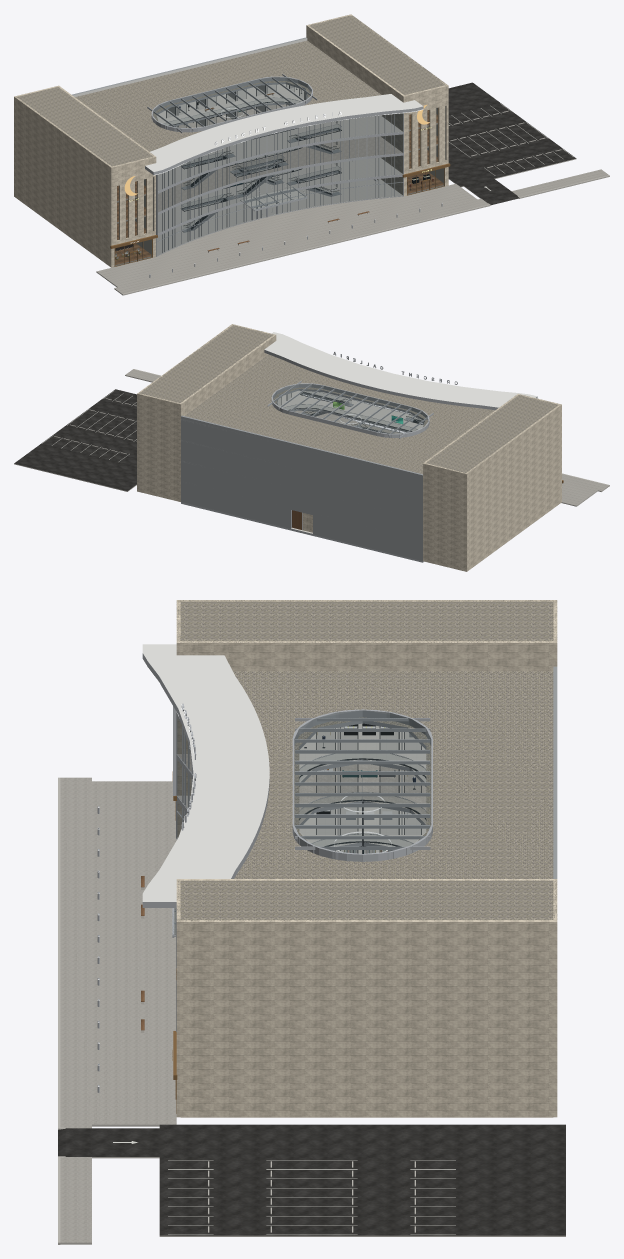
Rendered from crescent_galleria.glb.
3 views of the same model, one above another, from view 1: azimuth 30°, elevation 25°; view 2: azimuth 150°, elevation 25°; view 3: azimuth 270°, elevation 25° (orthographic). The views are drawn at different scales.
Visible parts, largest first — view 1: P15_LOD0_BUILDING_EXTERIOR_Bookends, P15_LOD2_GLASS_SYSTEM_CrescentGlass, P15_LOD0_BUILDING_INTERIOR_Slabs, P15_OPTIONAL_FORECOURT_EntrancePlaza, P15_LOD0_BUILDING_EXTERIOR_Roof, P15_OPTIONAL_PARKING_Asphalt, P15_LOD0_FACADE_DETAILS_Crescent, P15_LOD2_BUILDING_INTERIOR_Slabs, P15_SIDEWALK_FRONTAGE_Main, P15_LOD1_BUILDING_EXTERIOR_Roof, P15_LOD1_FACADE_DETAILS_Crescent, P15_LOD2_GLASS_SYSTEM_CrescentFrame (+14 smaller); view 2: P15_LOD0_BUILDING_EXTERIOR_Bookends, P15_LOD0_BUILDING_EXTERIOR_Roof, P15_OPTIONAL_PARKING_Asphalt, P15_LOD1_BUILDING_EXTERIOR_Roof, P15_LOD2_FACADE_DETAILS_Crescent, P15_LOD2_BUILDING_EXTERIOR_Roof, P15_LOD0_BUILDING_INTERIOR_Slabs, P15_LOD0_FACADE_DETAILS_Crescent, P15_LOD0_GLASS_SYSTEM_SkylightFrame, P15_LOD1_FACADE_DETAILS_Crescent, P15_SIDEWALK_FRONTAGE_Main, P15_LOD1_BUILDING_INTERIOR_Slabs (+5 smaller); view 3: P15_LOD0_BUILDING_EXTERIOR_Bookends, P15_OPTIONAL_PARKING_Asphalt, P15_LOD0_BUILDING_EXTERIOR_Roof, P15_OPTIONAL_FORECOURT_EntrancePlaza, P15_LOD0_FACADE_DETAILS_Crescent, P15_SIDEWALK_FRONTAGE_Main, P15_LOD1_FACADE_DETAILS_Crescent, P15_LOD0_GLASS_SYSTEM_SkylightFrame, P15_LOD0_BUILDING_INTERIOR_Slabs, P15_LOD1_BUILDING_EXTERIOR_Roof, P15_LOD2_BUILDING_EXTERIOR_Roof, P15_LOD2_FACADE_DETAILS_Crescent (+8 smaller).
Part boxes in pixels (x1,y1,x2,y2): P15_LOD0_BUILDING_EXTERIOR_Bookends: (14, 14, 450, 267); P15_LOD2_GLASS_SYSTEM_CrescentGlass: (157, 114, 402, 254); P15_LOD0_BUILDING_INTERIOR_Slabs: (156, 84, 402, 254); P15_OPTIONAL_FORECOURT_EntrancePlaza: (96, 184, 477, 287); P15_LOD0_BUILDING_EXTERIOR_Roof: (75, 40, 381, 151); P15_OPTIONAL_PARKING_Asphalt: (448, 82, 576, 187); P15_LOD0_FACADE_DETAILS_Crescent: (145, 94, 423, 211); P15_LOD2_BUILDING_INTERIOR_Slabs: (156, 90, 402, 255); P15_SIDEWALK_FRONTAGE_Main: (114, 169, 609, 295); P15_LOD1_BUILDING_EXTERIOR_Roof: (82, 42, 380, 151); P15_LOD1_FACADE_DETAILS_Crescent: (146, 94, 422, 171); P15_LOD2_GLASS_SYSTEM_CrescentFrame: (156, 113, 403, 256); P15_LOD0_BUILDING_EXTERIOR_Bookends: (137, 324, 563, 571); P15_LOD0_BUILDING_EXTERIOR_Roof: (181, 354, 494, 473); P15_OPTIONAL_PARKING_Asphalt: (14, 389, 136, 491); P15_LOD1_BUILDING_EXTERIOR_Roof: (190, 355, 493, 473); P15_LOD2_FACADE_DETAILS_Crescent: (264, 333, 535, 410); P15_LOD2_BUILDING_EXTERIOR_Roof: (195, 358, 494, 472); P15_LOD0_BUILDING_INTERIOR_Slabs: (181, 390, 424, 562); P15_LOD0_FACADE_DETAILS_Crescent: (265, 332, 537, 408); P15_LOD0_GLASS_SYSTEM_SkylightFrame: (267, 380, 433, 438); P15_LOD1_FACADE_DETAILS_Crescent: (272, 332, 535, 407); P15_SIDEWALK_FRONTAGE_Main: (125, 369, 609, 491); P15_LOD1_BUILDING_INTERIOR_Slabs: (297, 391, 423, 433); P15_LOD0_BUILDING_EXTERIOR_Bookends: (173, 600, 557, 1117); P15_OPTIONAL_PARKING_Asphalt: (159, 1124, 565, 1236); P15_LOD0_BUILDING_EXTERIOR_Roof: (233, 671, 553, 878); P15_OPTIONAL_FORECOURT_EntrancePlaza: (92, 781, 176, 1126); P15_LOD0_FACADE_DETAILS_Crescent: (142, 644, 269, 937); P15_SIDEWALK_FRONTAGE_Main: (58, 777, 91, 1244); P15_LOD1_FACADE_DETAILS_Crescent: (143, 645, 269, 901); P15_LOD0_GLASS_SYSTEM_SkylightFrame: (292, 709, 432, 861); P15_LOD0_BUILDING_INTERIOR_Slabs: (177, 723, 426, 853); P15_LOD1_BUILDING_EXTERIOR_Roof: (235, 671, 552, 878); P15_LOD2_BUILDING_EXTERIOR_Roof: (235, 673, 553, 878); P15_LOD2_FACADE_DETAILS_Crescent: (145, 644, 268, 901).
Size of what is drawn, in the model's own units: 130 by 25.9 by 60.
Materials: 60 (12 with a texture image).
